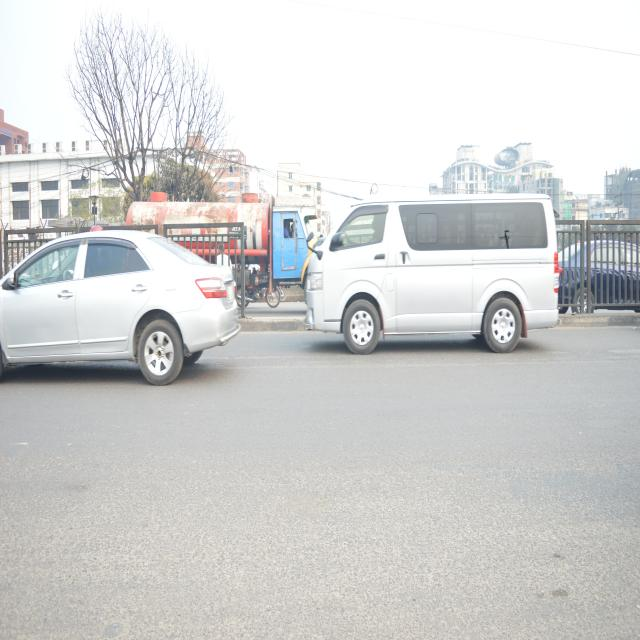car: (1, 223, 236, 410), (558, 221, 640, 320)
microbus: (306, 184, 560, 356)
motorbike: (232, 266, 278, 321)
truck: (122, 185, 311, 289)
